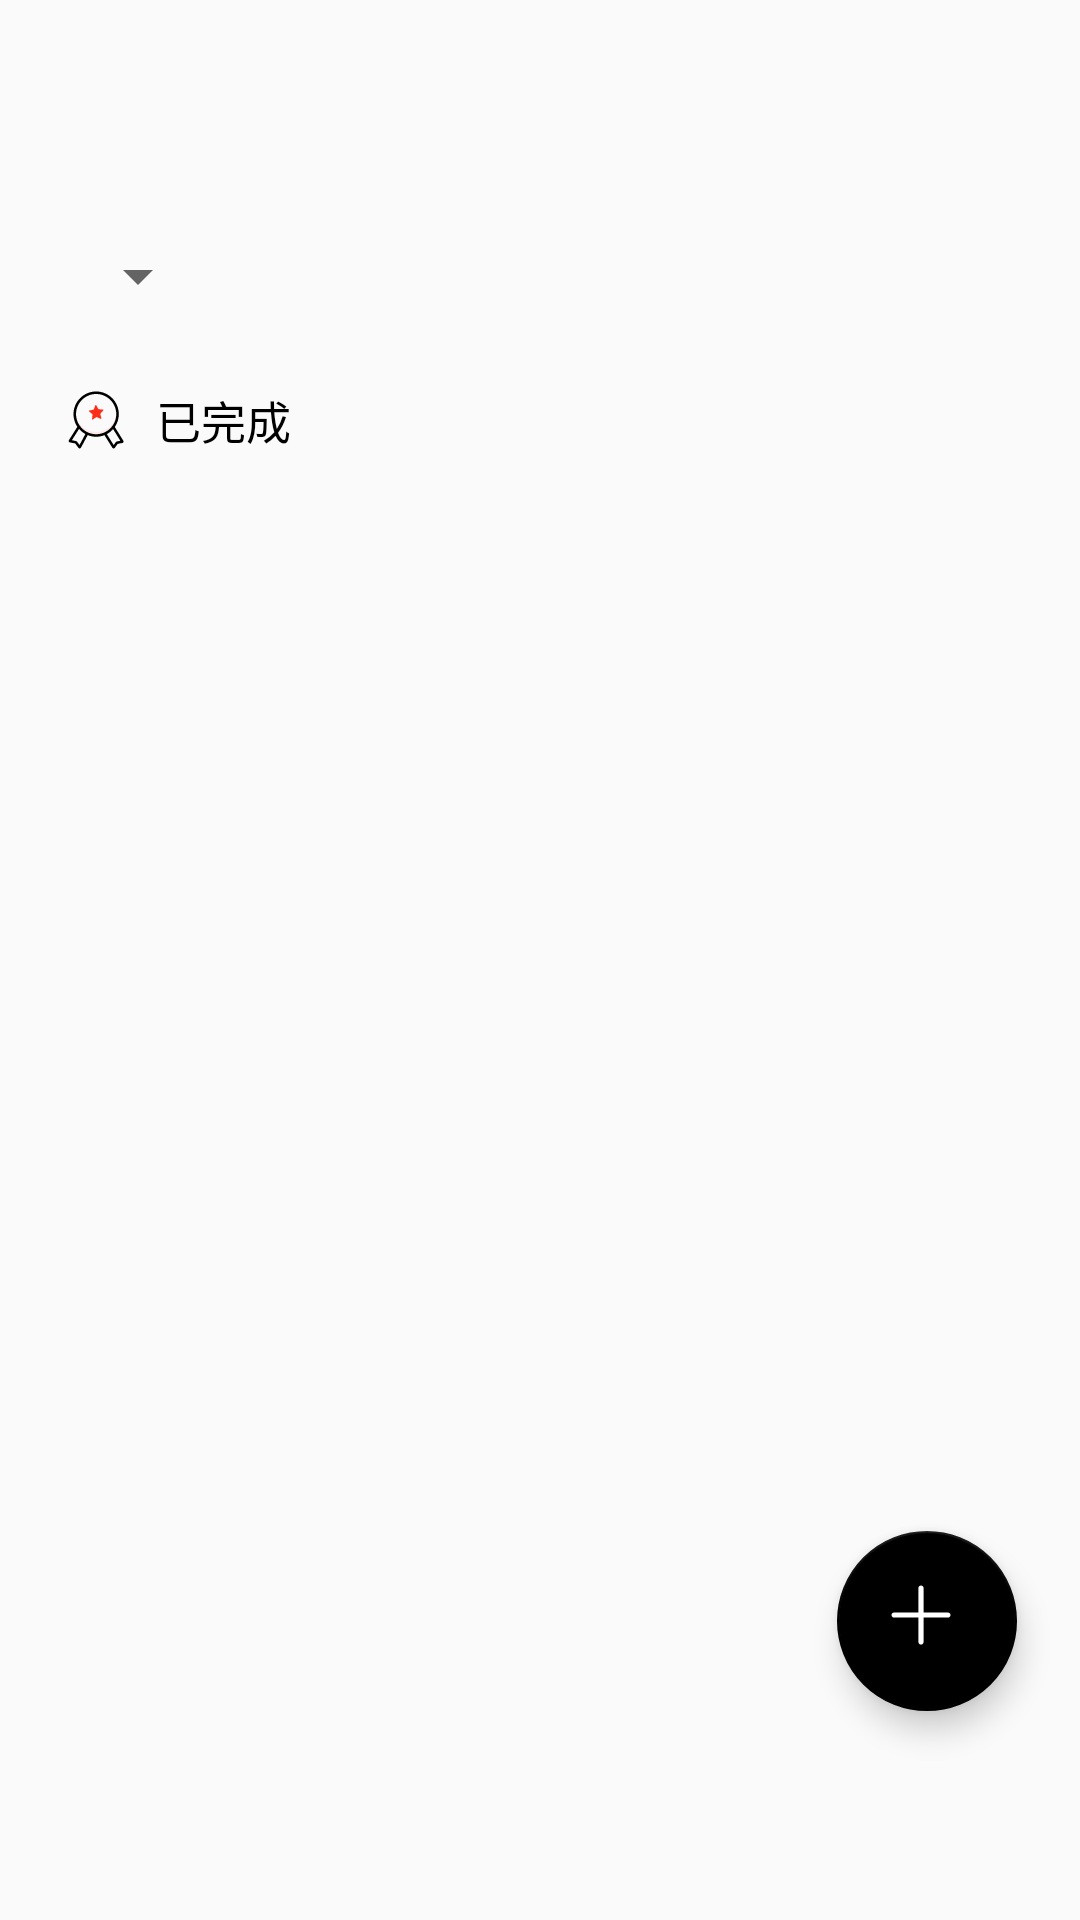

Screen size 1080px x 1920px. Icon name, then its center in pixels as (x,y):
add: (927,1621)
